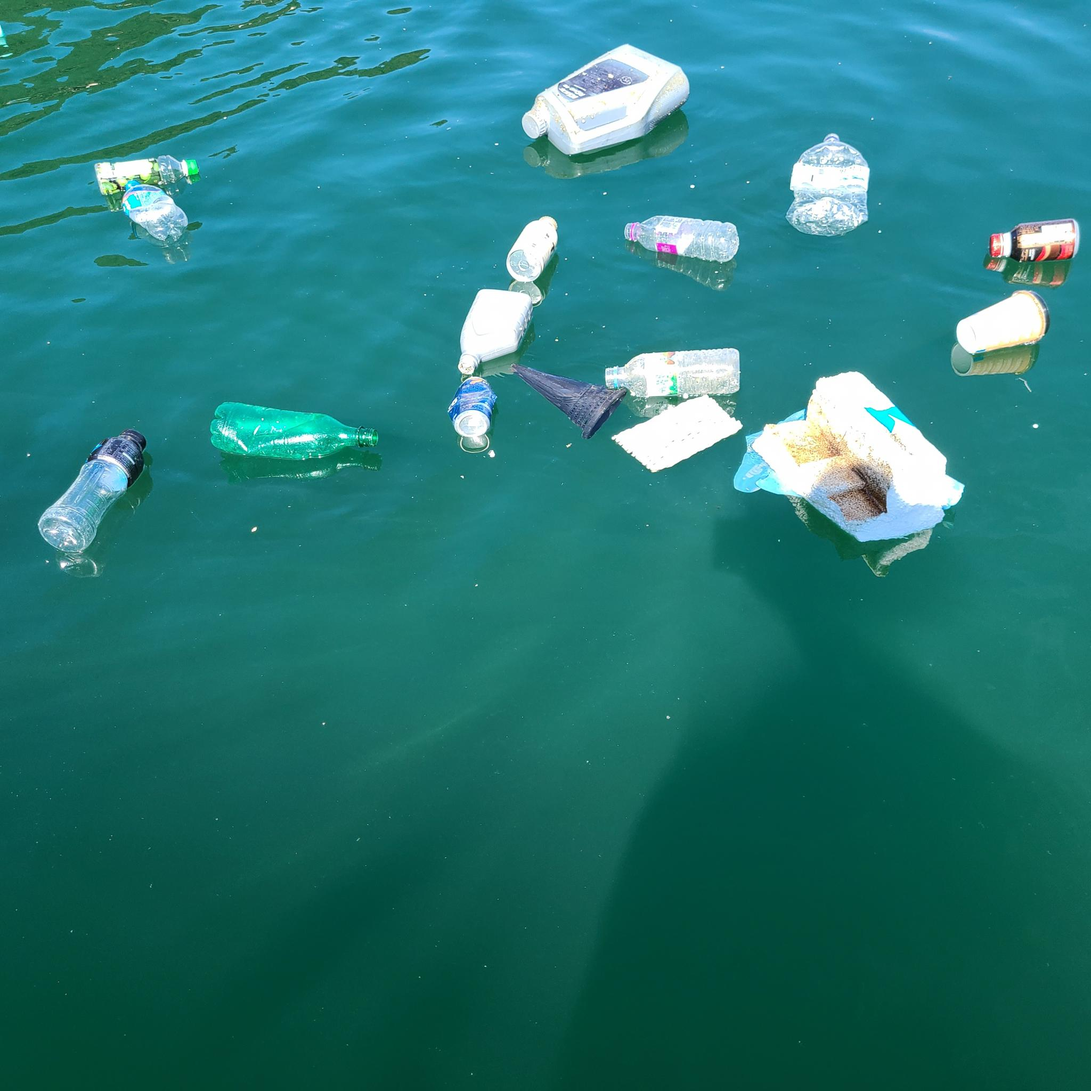sampah_terapung: (752, 371, 948, 543), (522, 44, 690, 156), (39, 429, 147, 555), (210, 402, 379, 459), (510, 363, 628, 441), (786, 134, 871, 237), (606, 348, 741, 397), (458, 289, 534, 375), (957, 291, 1051, 354), (624, 215, 740, 263), (95, 156, 199, 197), (122, 181, 189, 241), (990, 219, 1081, 263), (507, 216, 558, 283), (447, 377, 498, 437)
